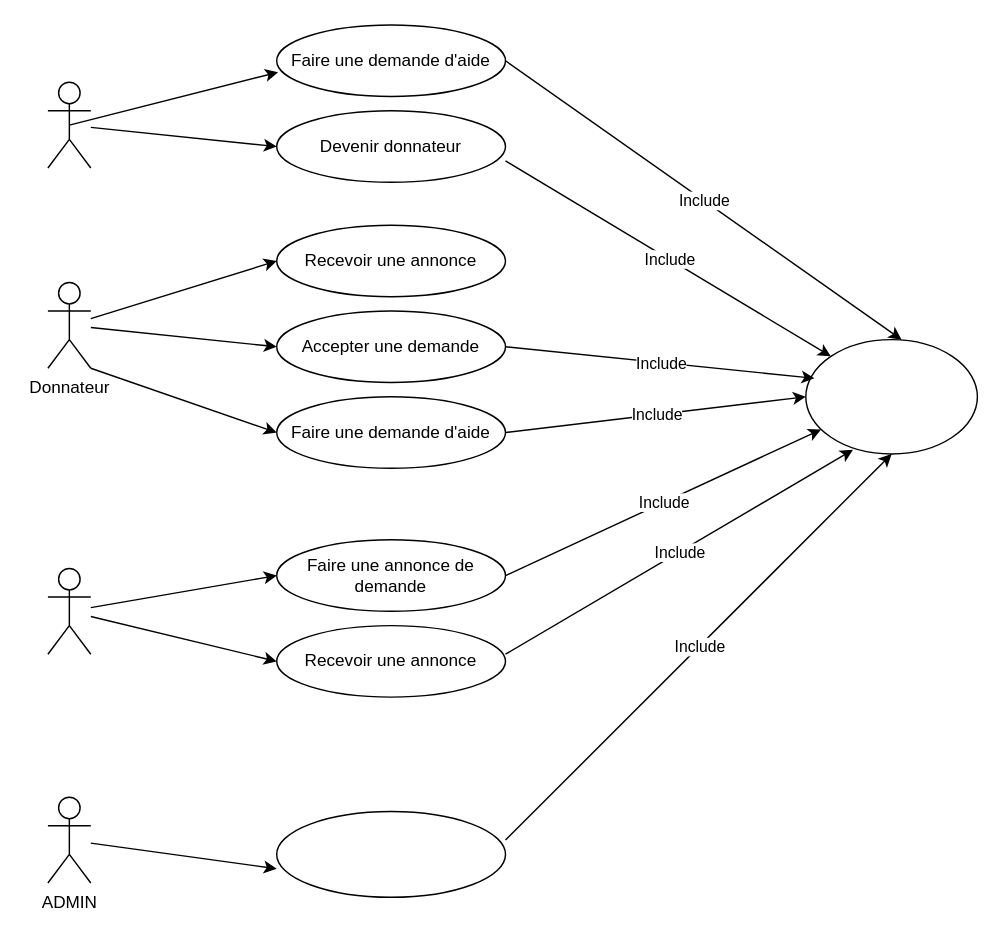
This 1002x938 diagram has some shape labels left out. The shapes that lost their labels are listed below. From the top down, each one's centre as x and y in pixels, then its label:
At (x=68, y=124): "Demandeur".
At (x=890, y=396): "Connection".
At (x=68, y=610): "Hopital".
At (x=390, y=853): "Gérer users - annonce".
